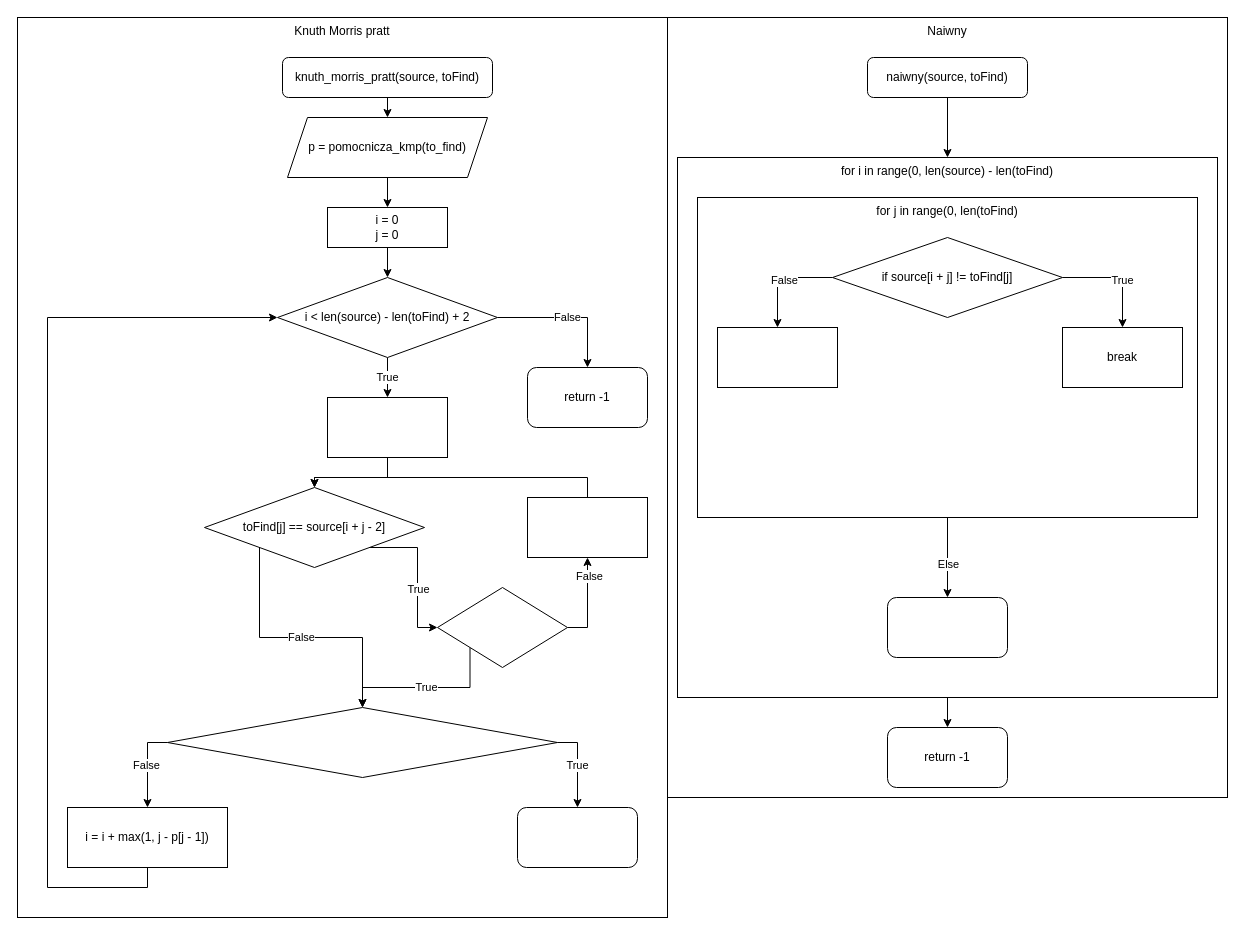
Image size: 1245x935. Some labels were removed from this diagram. The shapes that lost their labels are listed below. From the top down, each one's centre as x and y in pixels, then its label:
pixel 777 357: continue
pixel 387 427: j = p[j - 1]
pixel 587 527: j += 1
pixel 502 627: j + 1 == len(toFind)
pixel 947 627: return i
pixel 362 742: j + 1 == len(to_find) and to_find[j] == source[i + j - 2]
pixel 577 837: return i - j
